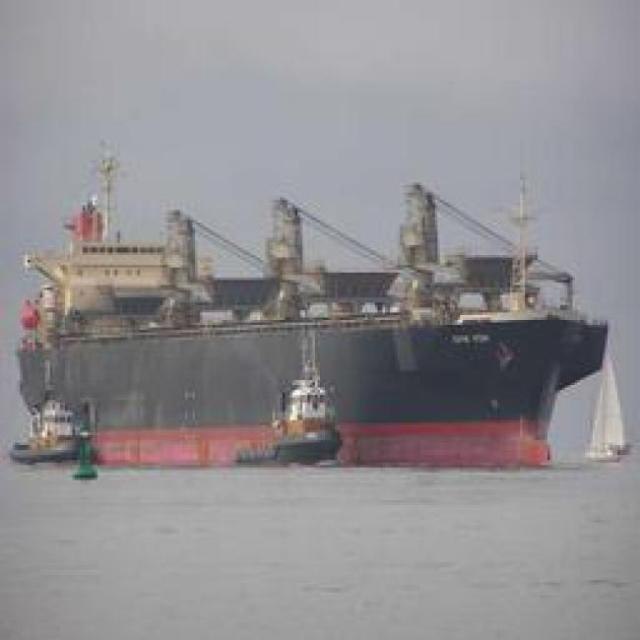boat: (6, 193, 617, 484)
